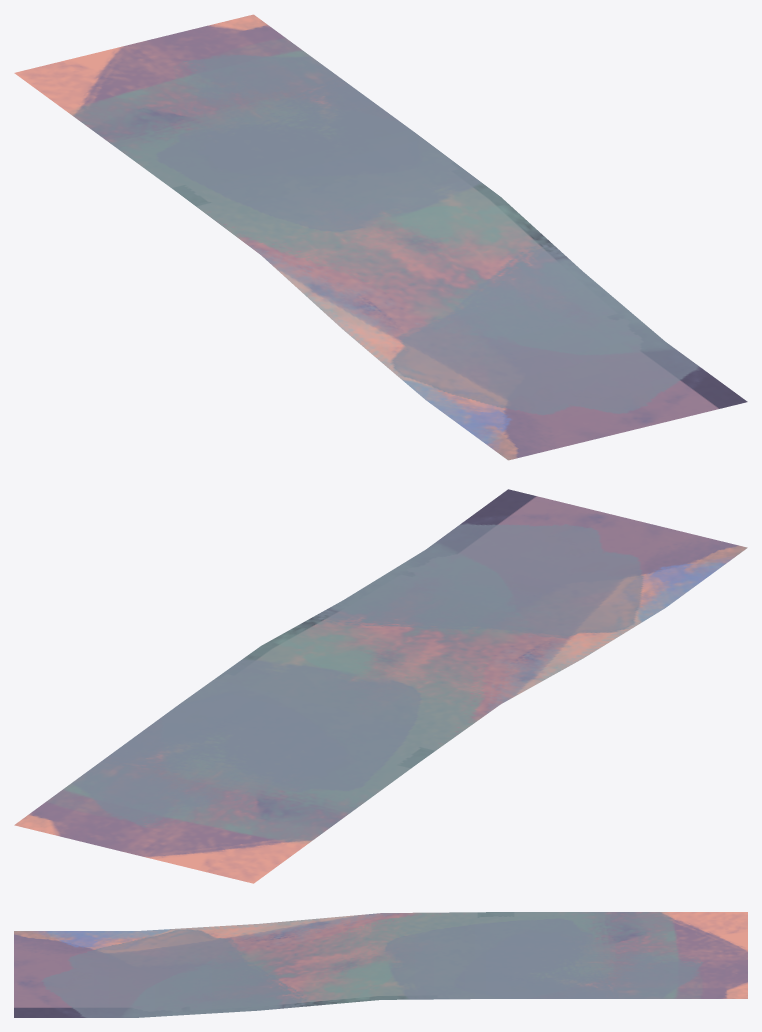
The model's file is S_BrushStroke_PurpleSmallLong.fbx.
The picture shows the model from 3 angles, top to bottom: view 1: azimuth 30°, elevation 25°; view 2: azimuth 150°, elevation 25°; view 3: azimuth 270°, elevation 25°; orthographic projection. The views are drawn at different scales.
Parts seen in each view (by area): view 1: S_BrushStroke_PurpleSmallLong; view 2: S_BrushStroke_PurpleSmallLong; view 3: S_BrushStroke_PurpleSmallLong.
Part boxes in pixels (x1,y1,x2,y2): S_BrushStroke_PurpleSmallLong: (14,14,747,460); S_BrushStroke_PurpleSmallLong: (14,489,747,883); S_BrushStroke_PurpleSmallLong: (14,912,747,1017).
Bounding box in the file's own units: 0.6092 × 0.0626 × 2.18.
